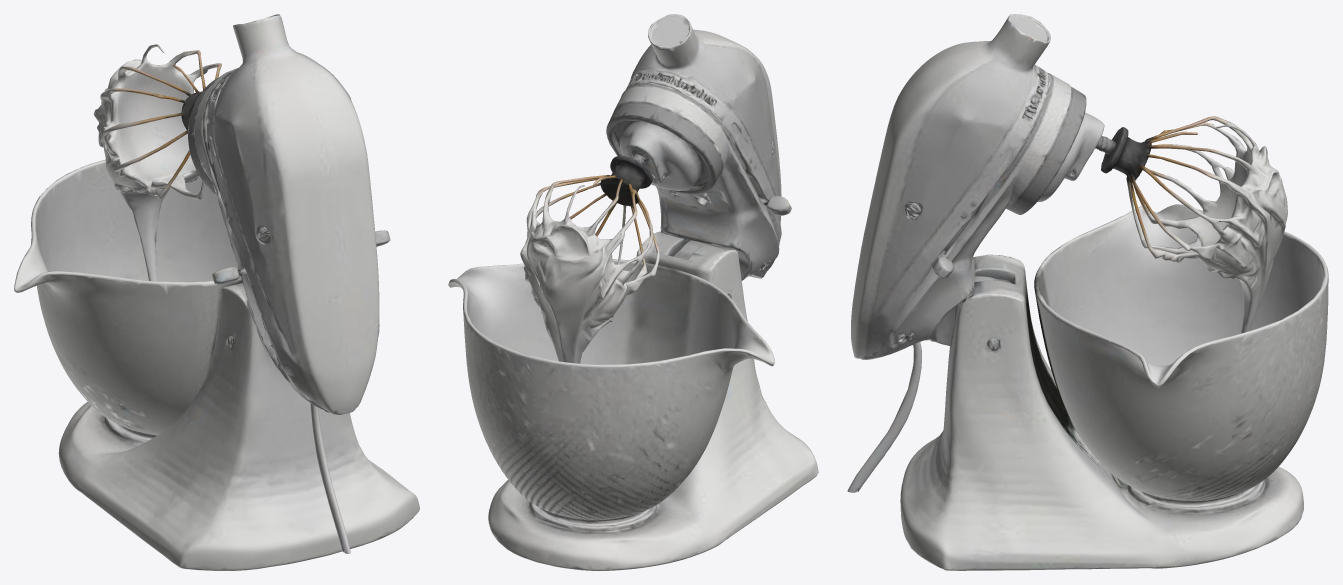
File: batidora.glb
3 renders of one model, left to right at view 1: azimuth 30°, elevation 25°; view 2: azimuth 150°, elevation 25°; view 3: azimuth 270°, elevation 25°, orthographic. The views are drawn at different scales.
Parts seen in each view (by area): view 1: tripo_node_aa234053-1abd-4e64-856c-a0bb51e47682; view 2: tripo_node_aa234053-1abd-4e64-856c-a0bb51e47682; view 3: tripo_node_aa234053-1abd-4e64-856c-a0bb51e47682.
Boxes of the visible parts, x1=… form: tripo_node_aa234053-1abd-4e64-856c-a0bb51e47682: x1=14, y1=14, x2=419, y2=570; tripo_node_aa234053-1abd-4e64-856c-a0bb51e47682: x1=448, y1=14, x2=818, y2=570; tripo_node_aa234053-1abd-4e64-856c-a0bb51e47682: x1=847, y1=14, x2=1328, y2=570.
Size of the model in its own units: 0.7266 by 0.979 by 0.8571.
1 material, 1 textured.
